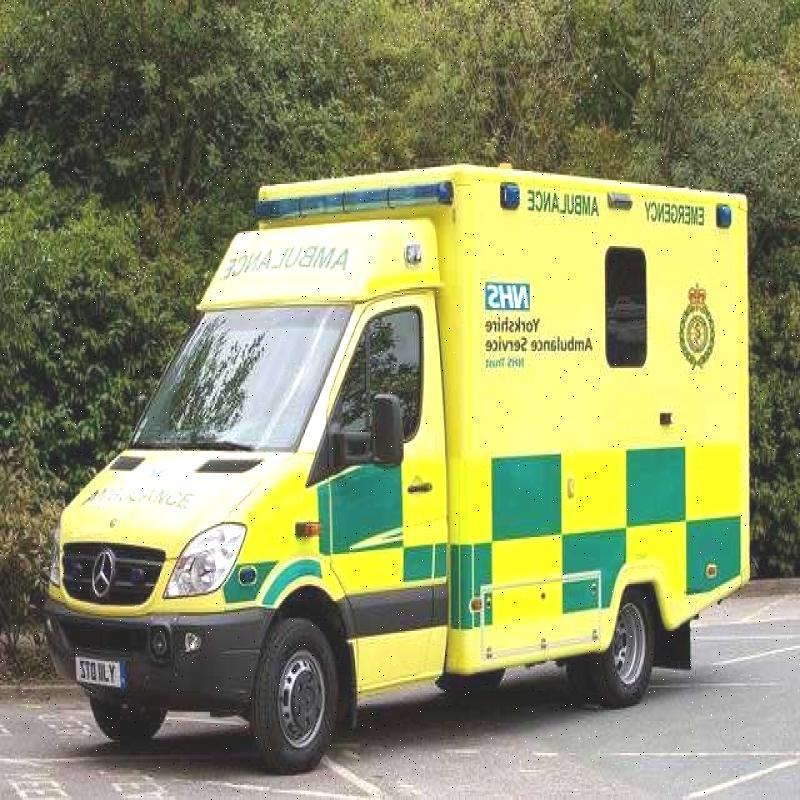AmbulanceSiren: (242, 180, 457, 245)
